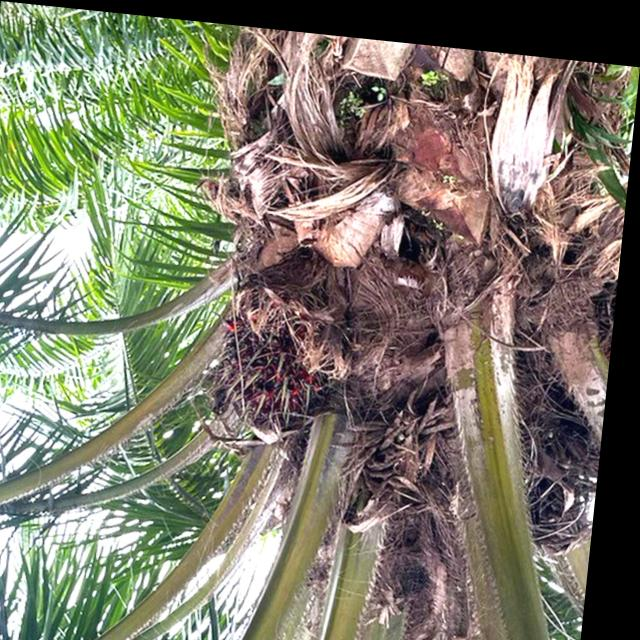ripe: (212, 311, 341, 429)
